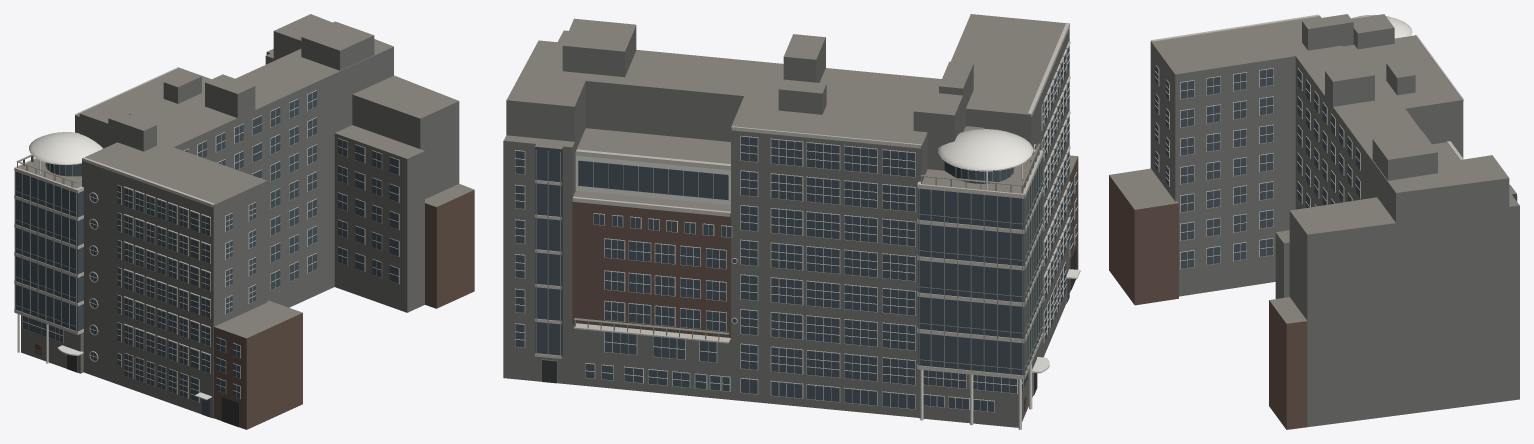
Rendered from joodse-invalide.glb.
The picture shows the model from 3 angles, left to right: view 1: azimuth 30°, elevation 25°; view 2: azimuth 150°, elevation 25°; view 3: azimuth 270°, elevation 25°; orthographic projection. The views are drawn at different scales.
Parts seen in each view (by area): view 1: joodse-invalide; view 2: joodse-invalide; view 3: joodse-invalide.
Part boxes in pixels (left/top/right/bottom): joodse-invalide: left=14, top=14, right=474, bottom=429; joodse-invalide: left=503, top=14, right=1080, bottom=429; joodse-invalide: left=1109, top=14, right=1519, bottom=429.
Bounding box in the file's own units: 63.03 × 35 × 52.59.
